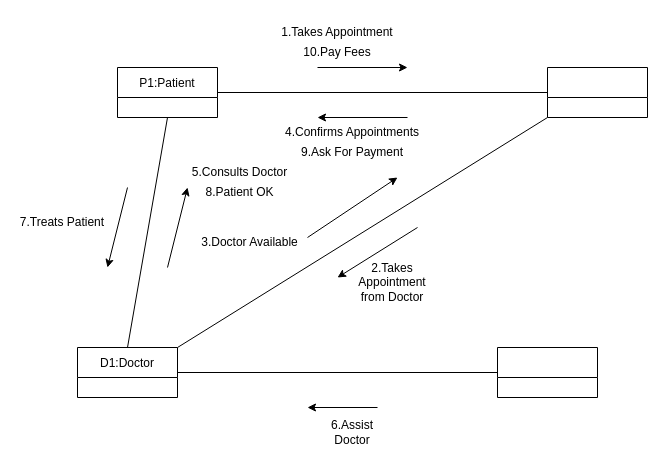
This 665x464 diagram has some shape labels left out. Here are the shapes that lost their labels. From the top down, the centre of each, then its label:
At (x=597, y=92): "R1:Receptionist".
At (x=547, y=372): "N1:Nurse".
